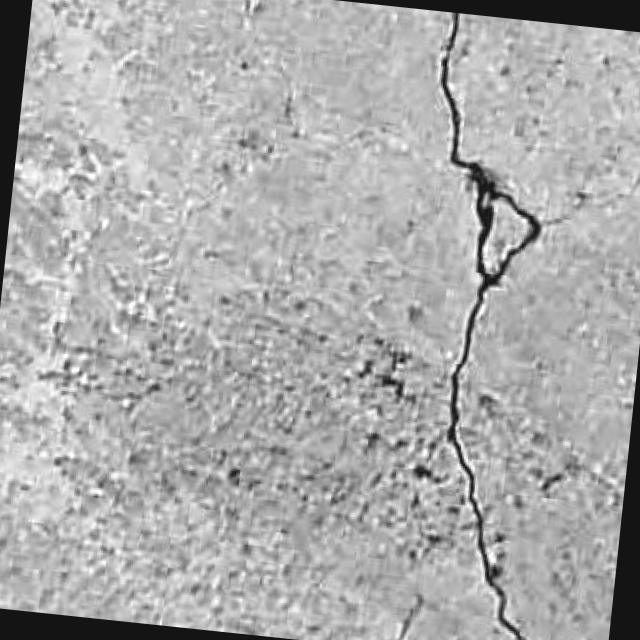crack: (439, 13, 540, 639)
